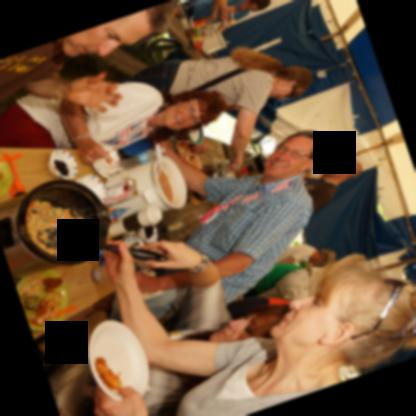handbag: (190, 68, 247, 91)
